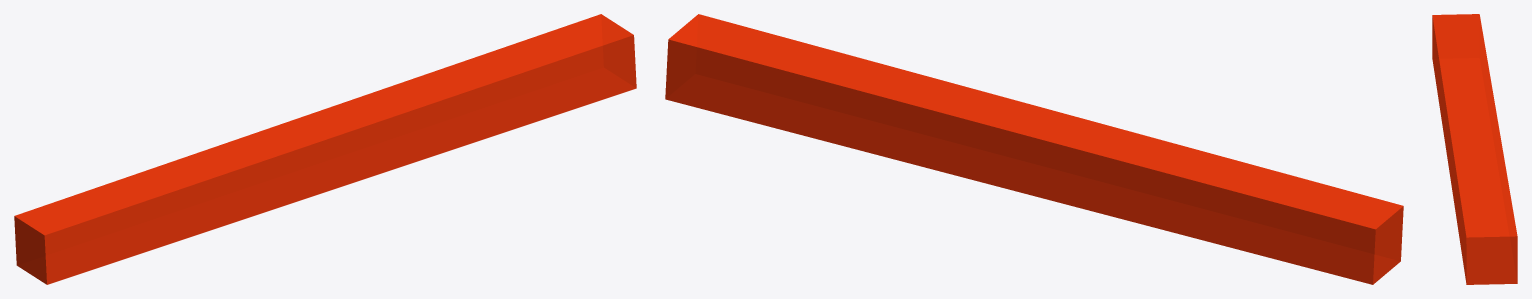
Rendered from Event_420094457_EErechit_43.fbx.
3 views of the same model, side by side, from view 1: azimuth 30°, elevation 25°; view 2: azimuth 150°, elevation 25°; view 3: azimuth 270°, elevation 25° (orthographic). The views are drawn at different scales.
Parts seen in each view (by area): view 1: Model; view 2: Model; view 3: Model.
Boxes of the visible parts, bbox=[...] form: Model: bbox=[14, 14, 636, 284]; Model: bbox=[665, 14, 1403, 284]; Model: bbox=[1432, 14, 1517, 284].
Size of the model in its own units: 0.9297 by 0.1263 by 0.1305.
